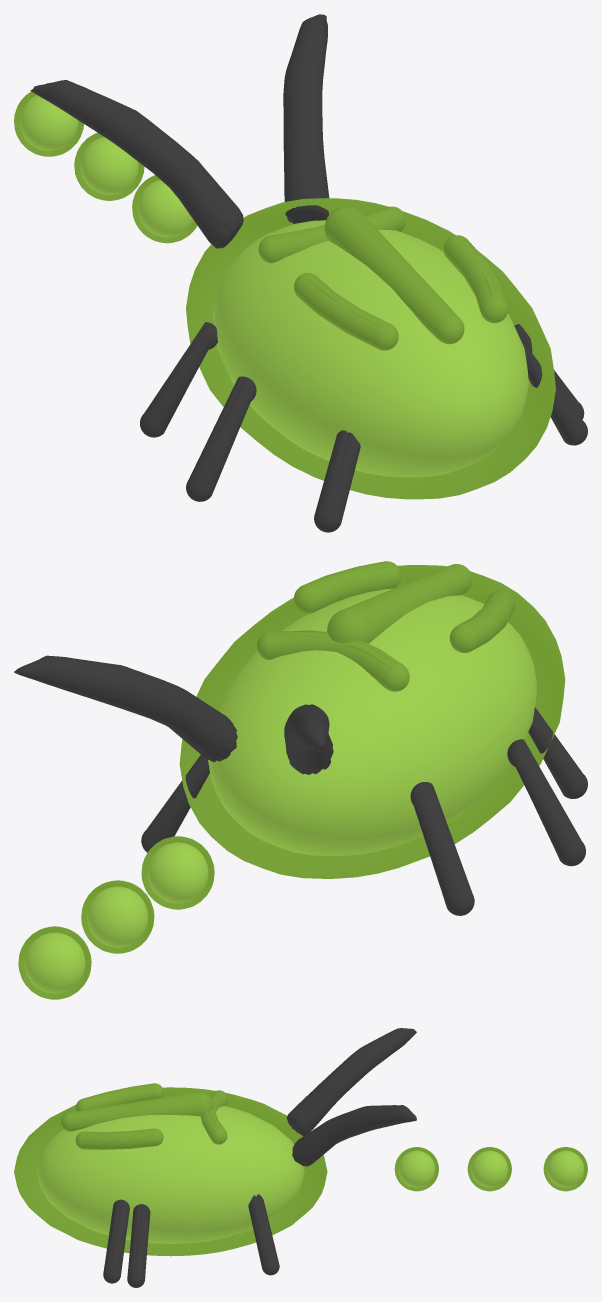
The model's file is mantis.glb.
The picture shows the model from 3 angles, top to bottom: view 1: azimuth 30°, elevation 25°; view 2: azimuth 150°, elevation 25°; view 3: azimuth 270°, elevation 25°; orthographic projection. The views are drawn at different scales.
Visible parts, largest first — view 1: Sphere, Cone.001, Cone, Sphere.010, Sphere.012, Sphere.002, Sphere.008, Sphere.013, Sphere.011, Sphere.001, Sphere.003, Sphere.009 (+2 smaller); view 2: Sphere, Cone, Sphere.010, Sphere.012, Sphere.011, Sphere.013, Sphere.001, Sphere.007, Sphere.002, Sphere.009, Cone.001, Sphere.008 (+2 smaller); view 3: Sphere, Cone.001, Cone, Sphere.010, Sphere.011, Sphere.012, Sphere.013, Sphere.009, Sphere.005, Sphere.004, Sphere.006, Sphere.008 (+1 smaller).
Part boxes in pixels (x1,y1,x2,y2): Sphere: [186, 198, 555, 499]; Cone.001: [30, 80, 243, 248]; Cone: [283, 14, 329, 223]; Sphere.010: [324, 206, 464, 344]; Sphere.012: [74, 132, 144, 200]; Sphere.002: [186, 376, 256, 501]; Sphere.008: [294, 273, 398, 350]; Sphere.013: [14, 91, 83, 156]; Sphere.011: [132, 175, 197, 243]; Sphere.001: [140, 322, 217, 437]; Sphere.003: [314, 430, 360, 532]; Sphere.009: [443, 235, 508, 323]; Sphere: [179, 565, 565, 878]; Cone: [14, 655, 237, 762]; Sphere.010: [327, 564, 472, 643]; Sphere.012: [81, 880, 154, 953]; Sphere.011: [141, 836, 214, 909]; Sphere.013: [18, 926, 91, 999]; Sphere.001: [410, 782, 474, 915]; Sphere.007: [257, 630, 409, 691]; Sphere.002: [507, 739, 585, 866]; Sphere.009: [294, 561, 401, 613]; Cone.001: [284, 704, 333, 774]; Sphere.008: [449, 590, 515, 652]; Sphere: [14, 1087, 327, 1256]; Cone.001: [286, 1028, 416, 1135]; Cone: [292, 1105, 416, 1166]; Sphere.010: [61, 1092, 213, 1131]; Sphere.011: [394, 1147, 438, 1191]; Sphere.012: [467, 1147, 511, 1191]; Sphere.013: [543, 1147, 587, 1191]; Sphere.009: [75, 1128, 163, 1149]; Sphere.005: [127, 1204, 150, 1287]; Sphere.004: [103, 1199, 129, 1283]; Sphere.006: [248, 1194, 279, 1275]; Sphere.008: [76, 1083, 163, 1111].
Size of the model in its own units: 2.85 by 2.04 by 5.97.
